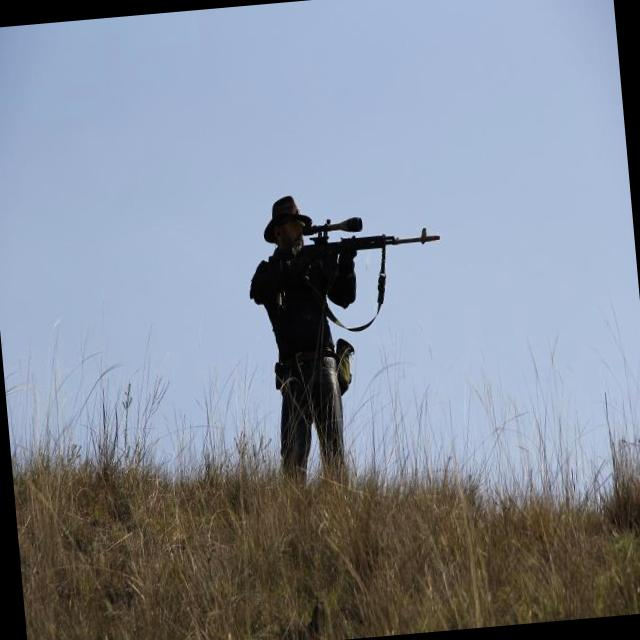Gun: (303, 217, 439, 255)
